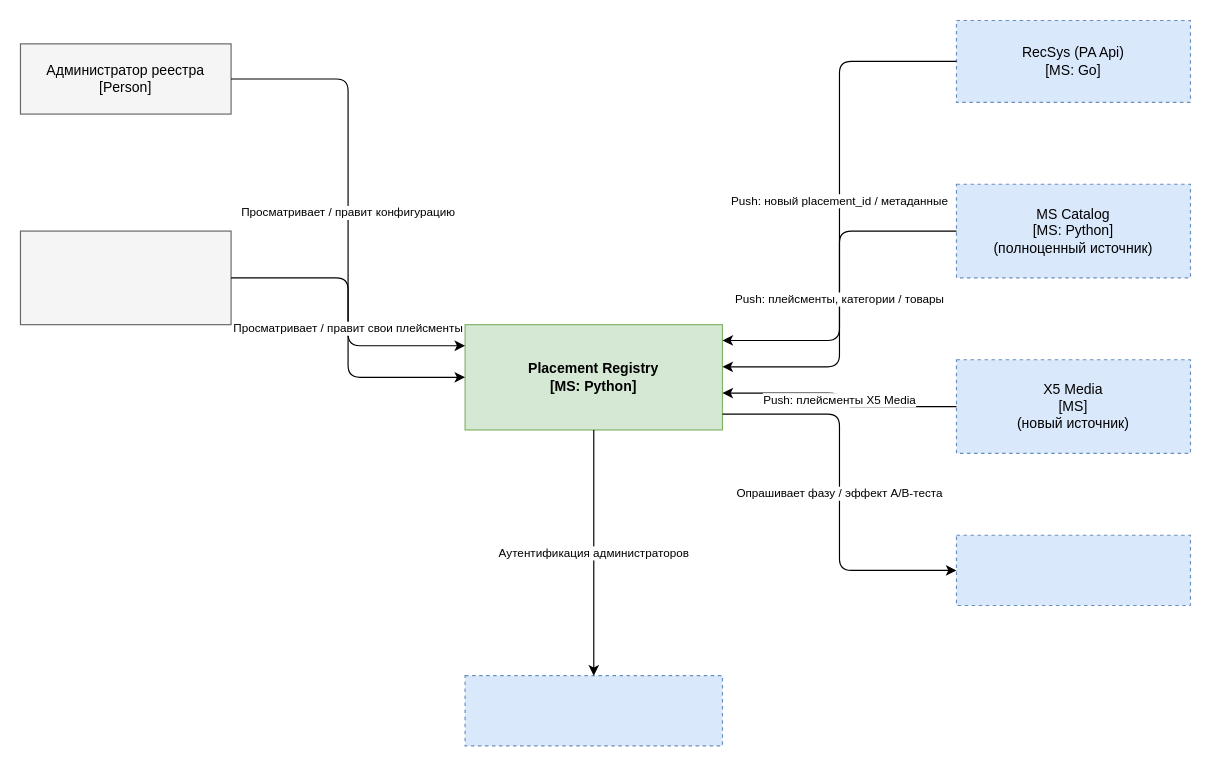
The diagram is 1211 pixels wide and 766 high, and some of its shapes have lost their labels. Here are the shapes that lost their labels. From the top down, the centre of each, then its label:
At (125,277): "Владелец полки [Person] X5 Media / Trade-Promo / Лояльность".
At (1072,569): "AB-платформа [MS]".
At (593,710): "X5ID [Auth]".
